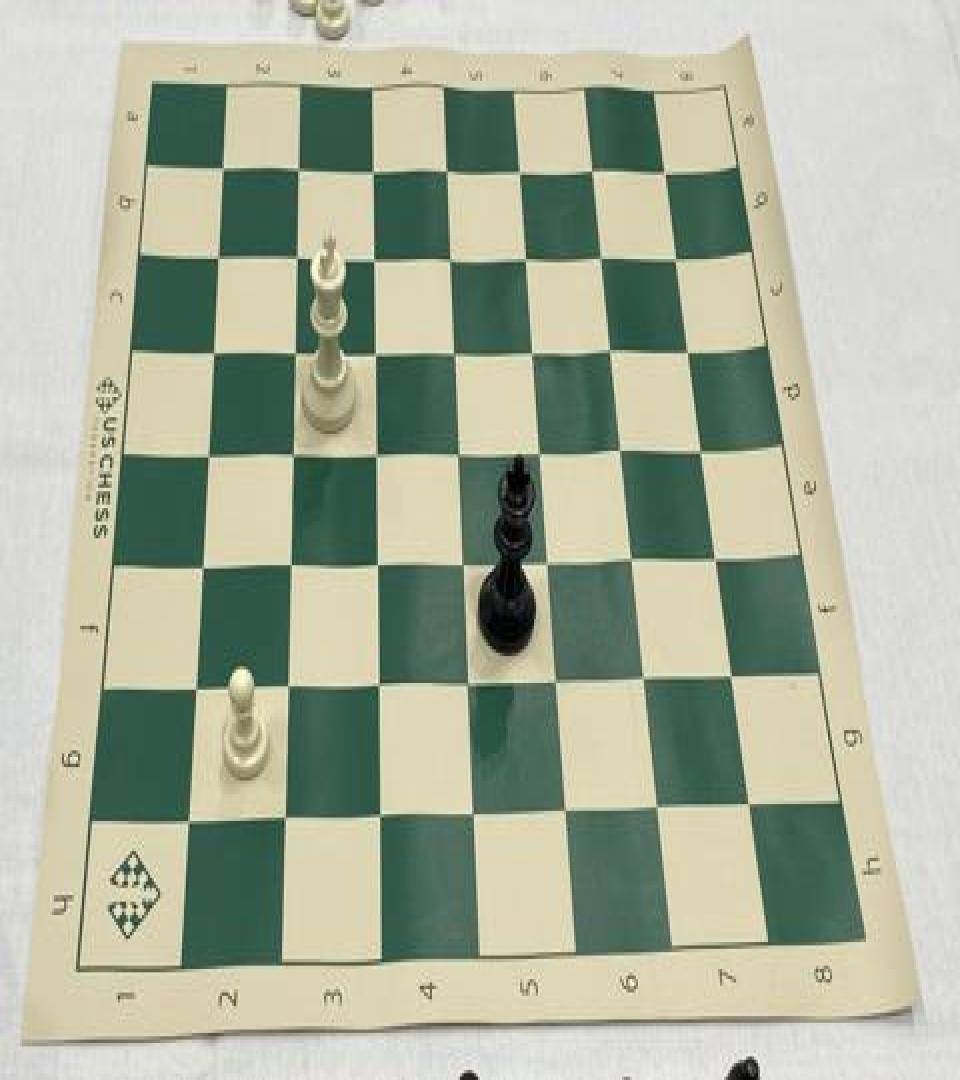xcorner: (623, 538, 645, 576), (191, 546, 213, 584), (277, 664, 299, 702), (363, 237, 385, 274), (286, 237, 308, 274), (208, 237, 230, 274), (679, 328, 701, 365), (601, 328, 623, 365), (612, 429, 634, 466), (530, 431, 552, 468), (448, 431, 470, 468), (365, 432, 387, 469), (282, 434, 304, 471), (197, 434, 219, 471), (707, 536, 729, 573), (538, 540, 560, 577), (279, 545, 301, 582), (723, 654, 745, 691), (636, 656, 658, 693), (547, 658, 569, 695), (458, 661, 480, 698), (368, 663, 390, 700), (185, 668, 207, 705), (741, 782, 763, 819), (463, 791, 485, 828), (369, 794, 391, 831), (177, 801, 199, 838), (655, 150, 677, 186), (583, 150, 605, 186), (510, 150, 532, 186), (436, 150, 458, 186), (363, 150, 385, 186), (288, 150, 310, 186), (213, 150, 235, 186), (666, 236, 688, 272), (592, 236, 614, 272), (516, 236, 538, 272), (440, 236, 462, 272), (523, 330, 545, 366), (444, 330, 466, 366), (364, 330, 386, 366), (284, 332, 306, 368), (203, 332, 225, 368), (693, 428, 715, 464), (453, 542, 475, 578), (366, 544, 388, 580), (649, 786, 671, 822), (557, 788, 579, 824), (274, 798, 296, 834)
